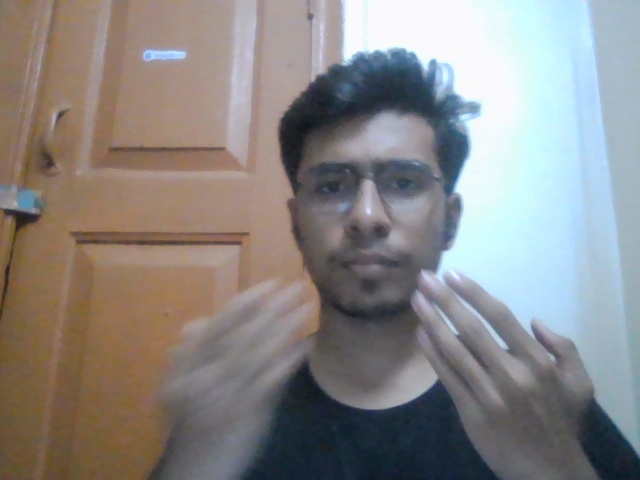ThankYou: (139, 252, 614, 480)
